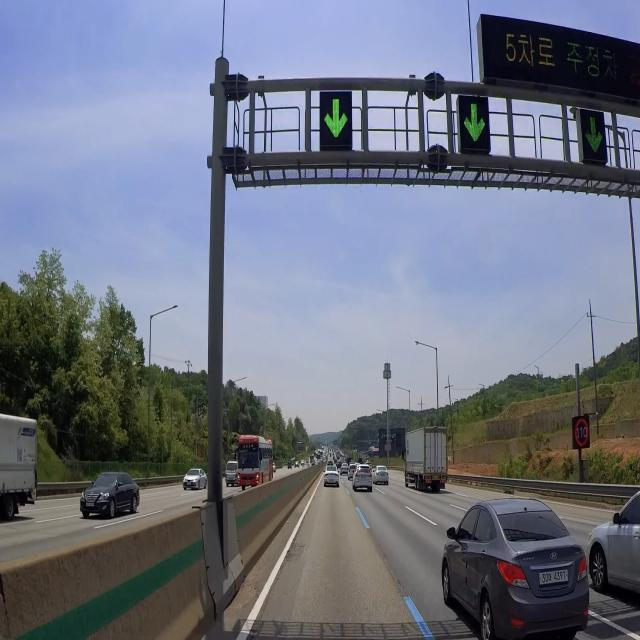car: (538, 564, 574, 589), (84, 501, 96, 511), (243, 477, 253, 488), (358, 475, 370, 484), (431, 472, 441, 482), (184, 480, 195, 489), (378, 472, 388, 481), (328, 474, 334, 488), (228, 475, 236, 483)
